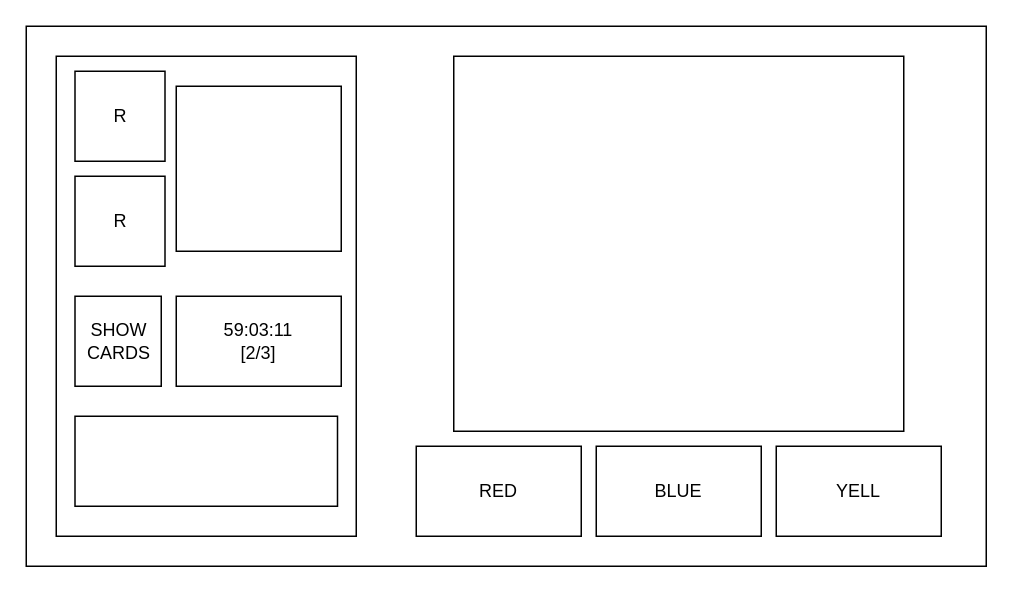
This 1013x593 diagram has some shape labels left out. Each missing label, with the centre of its shape:
DISCARDED: pixel 206 460
GREEN: pixel 678 243
TAKE ONE [ 123 LEFT ]: pixel 258 168
